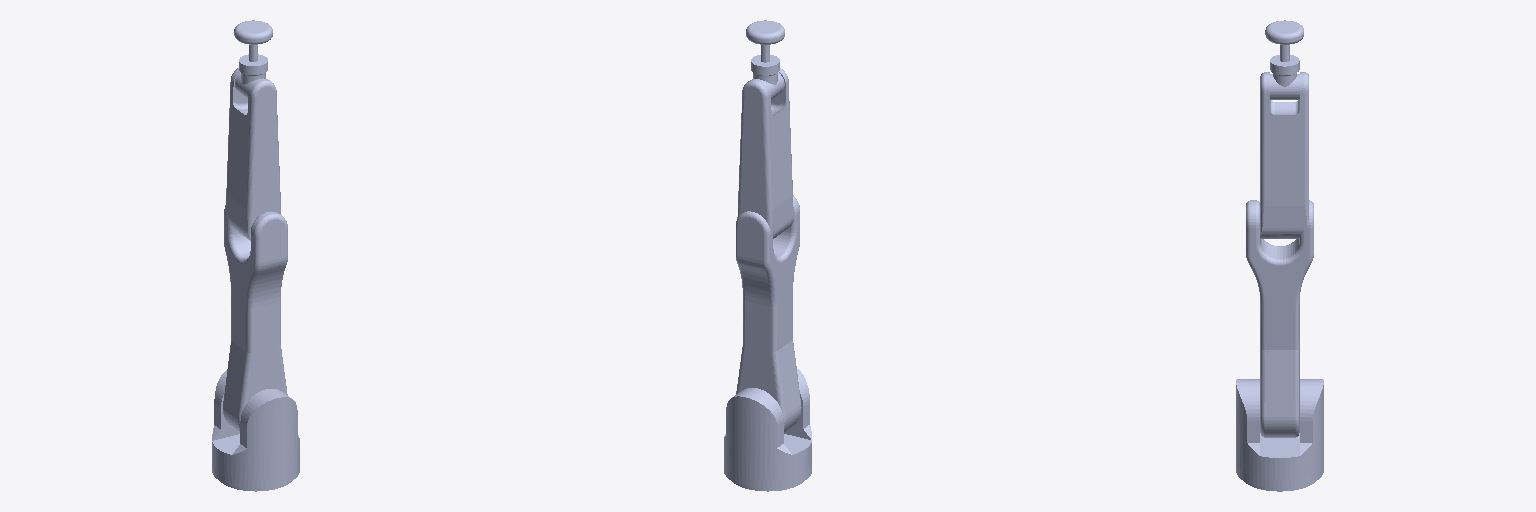
URDF robot description (polisher):
<?xml version="1.0" encoding="utf-8" ?>
<!-- This URDF was automatically created by SolidWorks to URDF Exporter! Originally created by [author] ([email redacted]) 
     Commit Version: 1.6.0-4-g7f85cfe  Build Version: 1.6.7995.38578
     For more information, please see http://wiki.ros.org/sw_urdf_exporter -->
<robot name="polisher">
<link name="world"/>

    <joint name="world_fixed" type="fixed">
        <parent link="world"/>
        <child link="base_link"/>
        <origin xyz="0 0 0.1" rpy="0 0 0"/>
    </joint>
    <link name="base_link">
        <inertial>
            <origin xyz="1.1824E-34 0.0020988 -8.1451E-18" rpy="0 0 0" />
            <mass value="0.50894" />
            <inertia ixx="0.001056" ixy="-2.9324E-36" ixz="7.2641E-36" iyy="0.0020612" iyz="2.0746E-20" izz="0.001056" />
        </inertial>
        <visual>
            <origin xyz="0 0 0" rpy="0 0 0" />
            <geometry>
                <mesh filename="package://polisher/meshes/base_link.STL" />
            </geometry>
            <material name="">
                <color rgba="0.79216 0.81961 0.93333 1" />
            </material>
        </visual>
        <collision>
            <origin xyz="0 0 0" rpy="0 0 0" />
            <geometry>
                <mesh filename="package://polisher/meshes/base_link.STL" />
            </geometry>
        </collision>
    </link>
    <link name="L1">
        <inertial>
            <origin xyz="2.609E-07 0.069404 3.3533E-08" rpy="0 0 0" />
            <mass value="2.6203" />
            <inertia ixx="0.01468" ixy="-4.4372E-08" ixz="-6.9928E-10" iyy="0.011798" iyz="-7.3338E-10" izz="0.011038" />
        </inertial>
        <visual>
            <origin xyz="0 0 0" rpy="0 0 0" />
            <geometry>
                <mesh filename="package://polisher/meshes/L1.STL" />
            </geometry>
            <material name="">
                <color rgba="0.79216 0.81961 0.93333 1" />
            </material>
        </visual>
        <collision>
            <origin xyz="0 0 0" rpy="0 0 0" />
            <geometry>
                <mesh filename="package://polisher/meshes/L1.STL" />
            </geometry>
        </collision>
    </link>
    <joint name="J1" type="revolute">
        <origin xyz="0 0 0.01" rpy="1.5708 0 0" />
        <parent link="base_link" />
        <child link="L1" />
        <axis xyz="0 1 0" />
        <limit lower="-3.141" upper="3.141" effort="50" velocity="1" />
    </joint>
    <link name="L2">
        <inertial>
            <origin xyz="2.5758E-09 -2.0066E-08 -0.17282" rpy="0 0 0" />
            <mass value="3.6365" />
            <inertia ixx="0.077736" ixy="-1.0778E-10" ixz="-4.0562E-10" iyy="0.078819" iyz="1.4721E-08" izz="0.0059647" />
        </inertial>
        <visual>
            <origin xyz="0 0 0" rpy="0 0 0" />
            <geometry>
                <mesh filename="package://polisher/meshes/L2.STL" />
            </geometry>
            <material name="">
                <color rgba="0.79216 0.81961 0.93333 1" />
            </material>
        </visual>
        <collision>
            <origin xyz="0 0 0" rpy="0 0 0" />
            <geometry>
                <mesh filename="package://polisher/meshes/L2.STL" />
            </geometry>
        </collision>
    </link>
    <joint name="J2" type="revolute">
        <origin xyz="0 0.13062 0" rpy="1.5708 -1.5708 0" />
        <parent link="L1" />
        <child link="L2" />
        <axis xyz="1 0 0" />
        <limit lower="-3.141" upper="3.141" effort="50" velocity="1" />
    </joint>
    <link name="L3">
        <inertial>
            <origin xyz="0.01 7.4465E-08 -0.11079" rpy="0 0 0" />
            <mass value="2.2512" />
            <inertia ixx="0.019258" ixy="-2.3005E-09" ixz="4.644E-09" iyy="0.020386" iyz="1.9429E-09" izz="0.0030744" />
        </inertial>
        <visual>
            <origin xyz="0 0 0" rpy="0 0 0" />
            <geometry>
                <mesh filename="package://polisher/meshes/L3.STL" />
            </geometry>
            <material name="">
                <color rgba="0.79216 0.81961 0.93333 1" />
            </material>
        </visual>
        <collision>
            <origin xyz="0 0 0" rpy="0 0 0" />
            <geometry>
                <mesh filename="package://polisher/meshes/L3.STL" />
            </geometry>
        </collision>
    </link>
    <joint name="J3" type="revolute">
        <origin xyz="0 0 -0.425" rpy="0 0 -3.1416" />
        <parent link="L2" />
        <child link="L3" />
        <axis xyz="1 0 0" />
        <limit lower="-3.141" upper="3.141" effort="50" velocity="1" />
    </joint>
    <link name="L4">
        <inertial>
            <origin xyz="-0.01 5.9649E-08 -0.0081105" rpy="0 0 0" />
            <mass value="0.22465" />
            <inertia ixx="0.00012689" ixy="-1.3381E-10" ixz="-6.8739E-12" iyy="0.00017646" iyz="7.2481E-11" izz="0.00013362" />
        </inertial>
        <visual>
            <origin xyz="0 0 0" rpy="0 0 0" />
            <geometry>
                <mesh filename="package://polisher/meshes/L4.STL" />
            </geometry>
            <material name="">
                <color rgba="0.79216 0.81961 0.93333 1" />
            </material>
        </visual>
        <collision>
            <origin xyz="0 0 0" rpy="0 0 0" />
            <geometry>
                <mesh filename="package://polisher/meshes/L4.STL" />
            </geometry>
        </collision>
    </link>
    <joint name="J4" type="revolute">
        <origin xyz="0 0 -0.3" rpy="0 0 3.1416" />
        <parent link="L3" />
        <child link="L4" />
        <axis xyz="1 0 0" />
        <limit lower="-3.141" upper="3.141" effort="50" velocity="1" />
    </joint>
    <link name="L5">
        <inertial>
            <origin xyz="1.2143E-17 -4.5869E-16 -0.058396" rpy="0 0 0" />
            <mass value="0.16928" />
            <inertia ixx="0.00020457" ixy="8.4957E-21" ixz="1.5658E-20" iyy="0.00020457" iyz="3.1565E-21" izz="0.00010248" />
        </inertial>
        <visual>
            <origin xyz="0 0 0" rpy="0 0 0" />
            <geometry>
                <mesh filename="package://polisher/meshes/L5.STL" />
            </geometry>
            <material name="">
                <color rgba="0.79216 0.81961 0.93333 1" />
            </material>
        </visual>
        <collision>
            <origin xyz="0 0 0" rpy="0 0 0" />
            <geometry>
                <mesh filename="package://polisher/meshes/L5.STL" />
            </geometry>
        </collision>
    </link>
    <joint name="J5" type="revolute">
        <origin xyz="-0.01 0 -0.045" rpy="0 0 -3.1416" />
        <parent link="L4" />
        <child link="L5" />
        <axis xyz="0 0 1" />
        <limit lower="-3.141" upper="3.141" effort="50" velocity="1" />
    </joint>
    <transmission name="trans_J1">
        <type>transmission_interface/SimpleTransmission</type>
        <joint name="J1">
            <hardwareInterface>hardware_interface/PositionJointInterface</hardwareInterface>
        </joint>
        <actuator name="J1_motor">
            <hardwareInterface>hardware_interface/PositionJointInterface</hardwareInterface>
            <mechanicalReduction>1</mechanicalReduction>
        </actuator>
    </transmission>
    <transmission name="trans_J2">
        <type>transmission_interface/SimpleTransmission</type>
        <joint name="J2">
            <hardwareInterface>hardware_interface/PositionJointInterface</hardwareInterface>
        </joint>
        <actuator name="J2_motor">
            <hardwareInterface>hardware_interface/PositionJointInterface</hardwareInterface>
            <mechanicalReduction>1</mechanicalReduction>
        </actuator>
    </transmission>
    <transmission name="trans_J3">
        <type>transmission_interface/SimpleTransmission</type>
        <joint name="J3">
            <hardwareInterface>hardware_interface/PositionJointInterface</hardwareInterface>
        </joint>
        <actuator name="J3_motor">
            <hardwareInterface>hardware_interface/PositionJointInterface</hardwareInterface>
            <mechanicalReduction>1</mechanicalReduction>
        </actuator>
    </transmission>
    <transmission name="trans_J4">
        <type>transmission_interface/SimpleTransmission</type>
        <joint name="J4">
            <hardwareInterface>hardware_interface/PositionJointInterface</hardwareInterface>
        </joint>
        <actuator name="J4_motor">
            <hardwareInterface>hardware_interface/PositionJointInterface</hardwareInterface>
            <mechanicalReduction>1</mechanicalReduction>
        </actuator>
    </transmission>
    <transmission name="trans_J5">
        <type>transmission_interface/SimpleTransmission</type>
        <joint name="J5">
            <hardwareInterface>hardware_interface/PositionJointInterface</hardwareInterface>
        </joint>
        <actuator name="J5_motor">
            <hardwareInterface>hardware_interface/PositionJointInterface</hardwareInterface>
            <mechanicalReduction>1</mechanicalReduction>
        </actuator>
    </transmission>
    <gazebo>
        <plugin name="gazebo_ros_control" filename="libgazebo_ros_control.so">
            <robotNamespace>/polisher</robotNamespace>
            <robotParam>robot_description</robotParam>
        </plugin>
    </gazebo>
    <gazebo>
      <plugin name = "joint_state_publisher" filename = "libgazebo_ros_joint_state_publisher.so">
      <jointName>J1, J2, J3, J4, J5 </jointName>
      </plugin>
    </gazebo>

    <gazebo reference="J1">
    <axis>
        <dynamics damping="0.1" friction="0.5"/>
    </axis>
    </gazebo>

    <gazebo reference="J2">
    <axis>
        <dynamics damping="0.1" friction="0.5"/>
    </axis>
    </gazebo>

    <gazebo reference="J3">
    <axis>
        <dynamics damping="0.1" friction="0.5"/>
    </axis>
    </gazebo>

    <gazebo reference="J4">
    <axis>
        <dynamics damping="0.1" friction="0.5"/>
    </axis>
    </gazebo>

    <gazebo reference="J5">
    <axis>
        <dynamics damping="0.1" friction="0.5"/>
    </axis>
    </gazebo>
</robot>

--- Render facts (derived) ---
Views: 3 orthographic renders of the robot side by side, from view 1: azimuth 30°, elevation 25°; view 2: azimuth 150°, elevation 25°; view 3: azimuth 270°, elevation 25°.
Robot: polisher — 7 links, 6 joints (5 revolute, 1 fixed); root link world; default pose: every joint at zero.
Visible links, largest first — view 1: L2, L3, L1, L5, base_link; view 2: L2, L3, L1, L5, base_link, L4; view 3: L2, L3, L1, L5, base_link, L4.
Link boxes in pixels (left/top/right/bottom): L2: left=223, top=205, right=287, bottom=432; L3: left=226, top=68, right=280, bottom=240; L1: left=212, top=370, right=299, bottom=479; L5: left=234, top=20, right=272, bottom=70; base_link: left=212, top=464, right=299, bottom=491; L2: left=736, top=195, right=801, bottom=431; L3: left=737, top=68, right=793, bottom=244; L1: left=724, top=369, right=811, bottom=479; L5: left=746, top=20, right=784, bottom=70; base_link: left=724, top=465, right=811, bottom=491; L4: left=751, top=67, right=784, bottom=99; L2: left=1246, top=200, right=1313, bottom=437; L3: left=1260, top=72, right=1308, bottom=238; L1: left=1236, top=379, right=1323, bottom=479; L5: left=1265, top=20, right=1303, bottom=70; base_link: left=1236, top=464, right=1323, bottom=491; L4: left=1270, top=65, right=1299, bottom=99.
Size in the robot's own frame: 0.18 by 0.18 by 1.01 metres.
Meshes: 6 distinct files referenced, 6 mesh visuals loaded (6 binary STL).